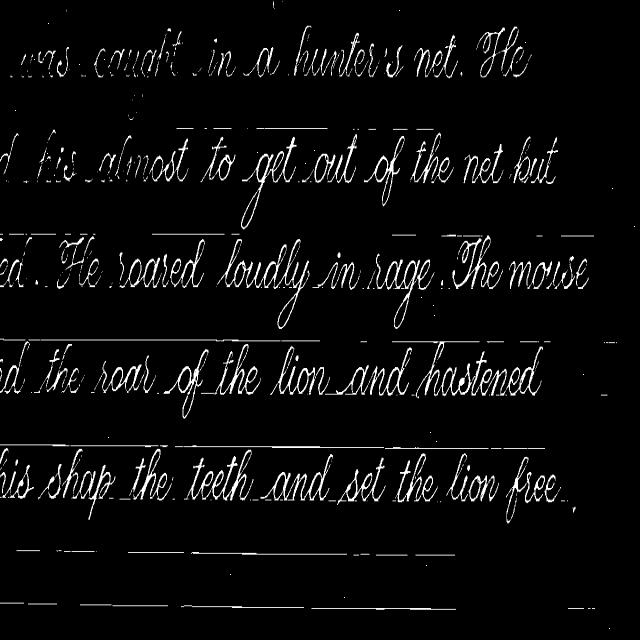noise: (54, 546, 456, 558), (78, 601, 458, 612), (172, 444, 545, 452), (0, 337, 321, 346), (244, 126, 441, 139), (0, 442, 170, 451), (484, 340, 552, 350), (176, 125, 244, 134), (151, 231, 240, 237), (0, 601, 62, 607), (390, 340, 482, 343), (560, 606, 595, 613), (602, 338, 624, 348), (29, 231, 58, 238), (359, 338, 384, 345), (16, 547, 41, 554), (440, 233, 482, 236), (108, 496, 131, 501), (598, 388, 611, 396), (560, 235, 594, 238), (392, 233, 416, 236), (200, 392, 214, 396), (534, 235, 544, 238), (486, 236, 490, 238)
not-noise: (22, 132, 457, 228), (210, 236, 589, 329), (20, 33, 532, 100), (56, 244, 206, 299), (0, 446, 114, 518), (410, 342, 543, 397), (271, 348, 412, 396), (260, 453, 386, 503), (462, 137, 558, 184), (218, 236, 300, 289), (506, 458, 561, 522), (186, 450, 254, 500), (164, 349, 208, 419), (271, 347, 330, 395), (476, 26, 529, 76), (446, 452, 499, 501), (128, 447, 174, 500), (36, 343, 84, 393), (214, 344, 261, 395), (95, 356, 156, 393), (56, 234, 94, 289), (396, 453, 437, 501), (0, 233, 34, 287), (0, 447, 34, 499), (0, 340, 30, 393), (38, 129, 56, 180), (0, 250, 24, 287), (294, 26, 311, 75), (0, 133, 18, 174), (286, 239, 300, 284), (158, 28, 171, 58), (444, 35, 455, 69), (194, 238, 204, 266), (128, 114, 134, 120), (36, 279, 38, 284)
